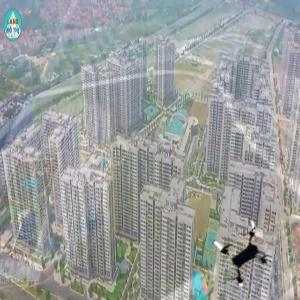drone: (206, 217, 277, 288)
